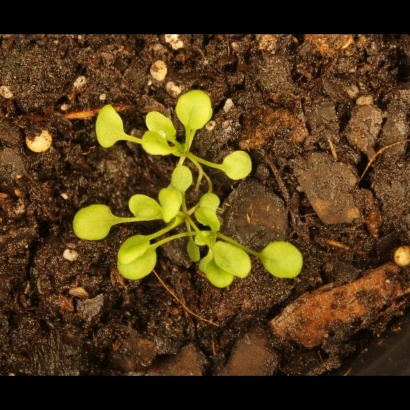leaf: (61, 198, 118, 245), (175, 84, 223, 134), (89, 103, 135, 155), (260, 237, 309, 285), (111, 243, 165, 281), (211, 240, 253, 287), (140, 105, 182, 144), (194, 189, 229, 233), (133, 130, 184, 160), (111, 235, 160, 265), (127, 192, 169, 225), (217, 146, 257, 179), (204, 257, 237, 292), (156, 184, 184, 225), (170, 165, 203, 197), (183, 238, 208, 266)
